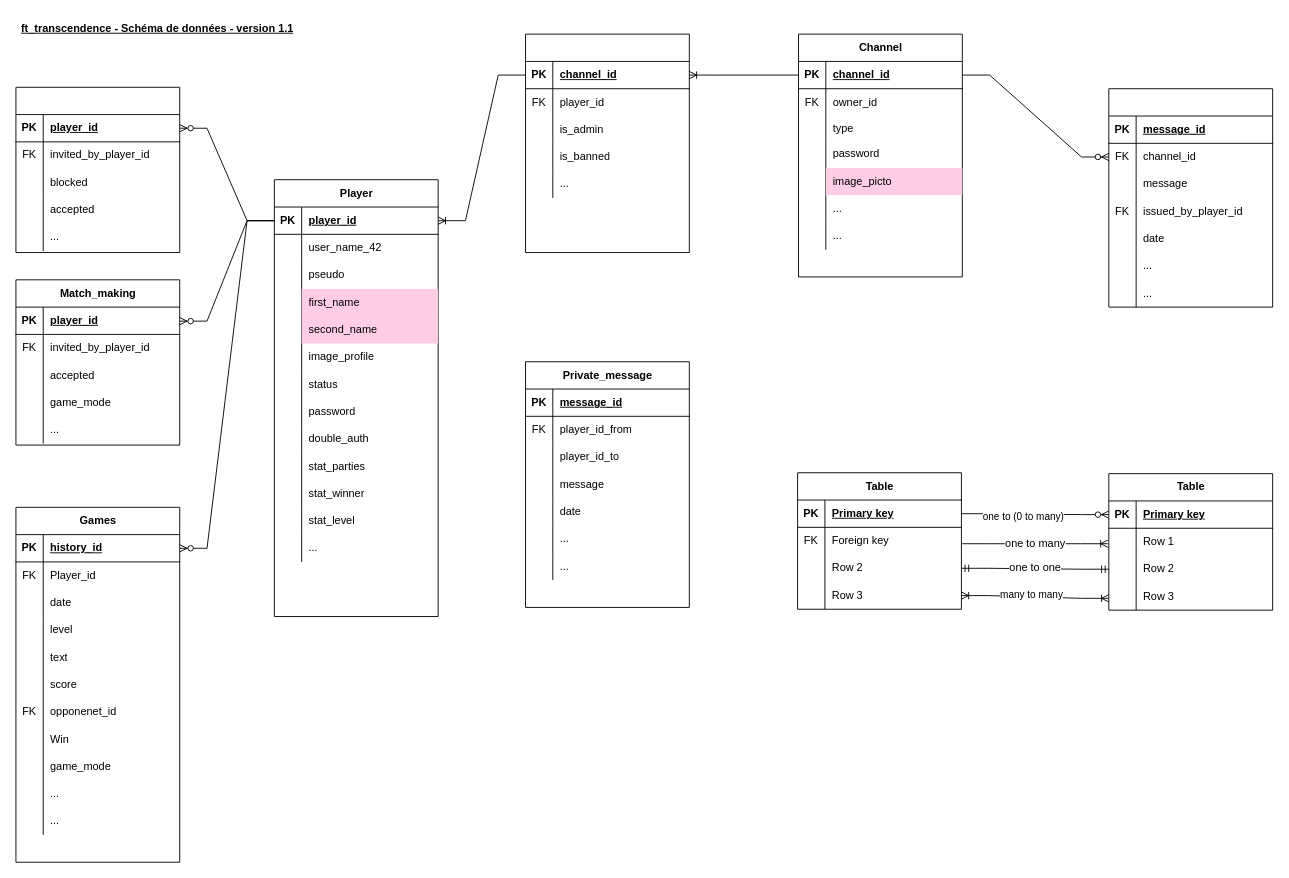
This 1289x878 diagram has some shape labels left out. Here are the shapes that lost their labels. From the top down, the box of each, then its label:
(525, 33, 689, 253): Relation Channel
(15, 86, 180, 253): Relationship
(1108, 88, 1273, 307): Chat_message
